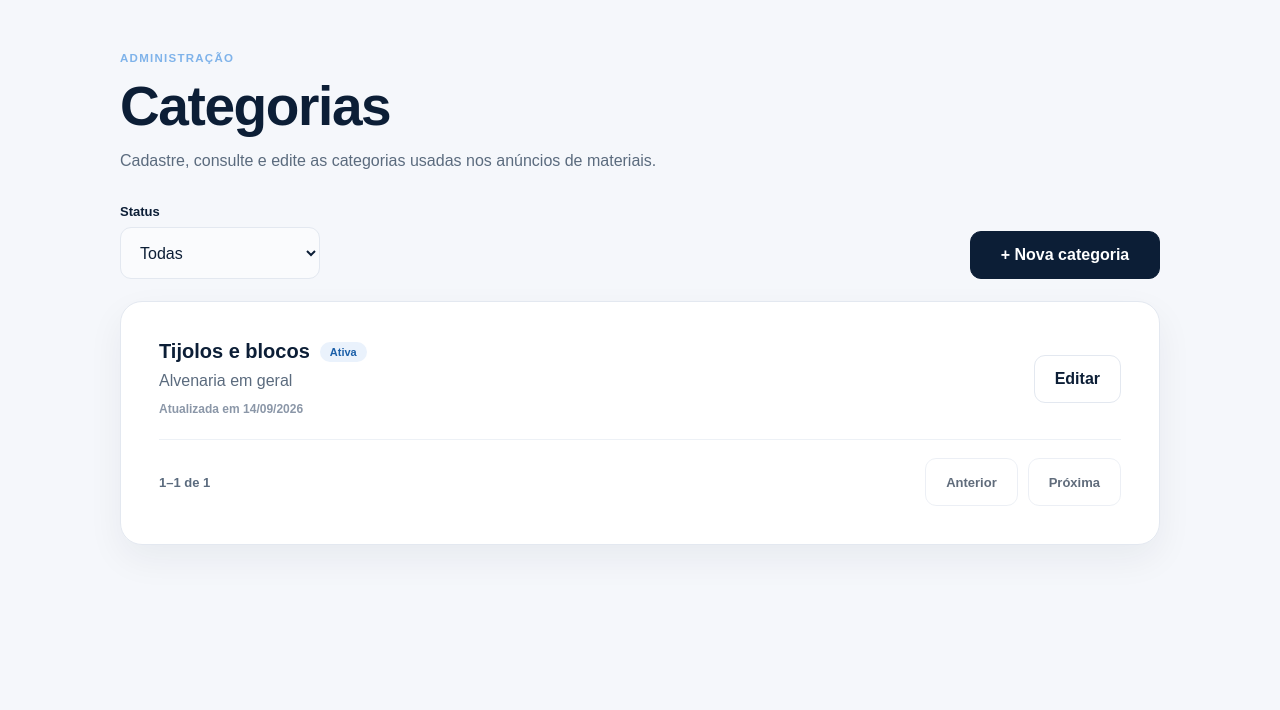
Test: CategoriasPage › não envia a edição quando nada mudou
The width and height of the screenshot is (1280, 710).
Check: the heading "Tijolos e blocos" is shown, box [159,340,310,363]
Click the button with aria-label "Editar Tijolos e blocos": point(1077, 379) [1034,355,1121,403]
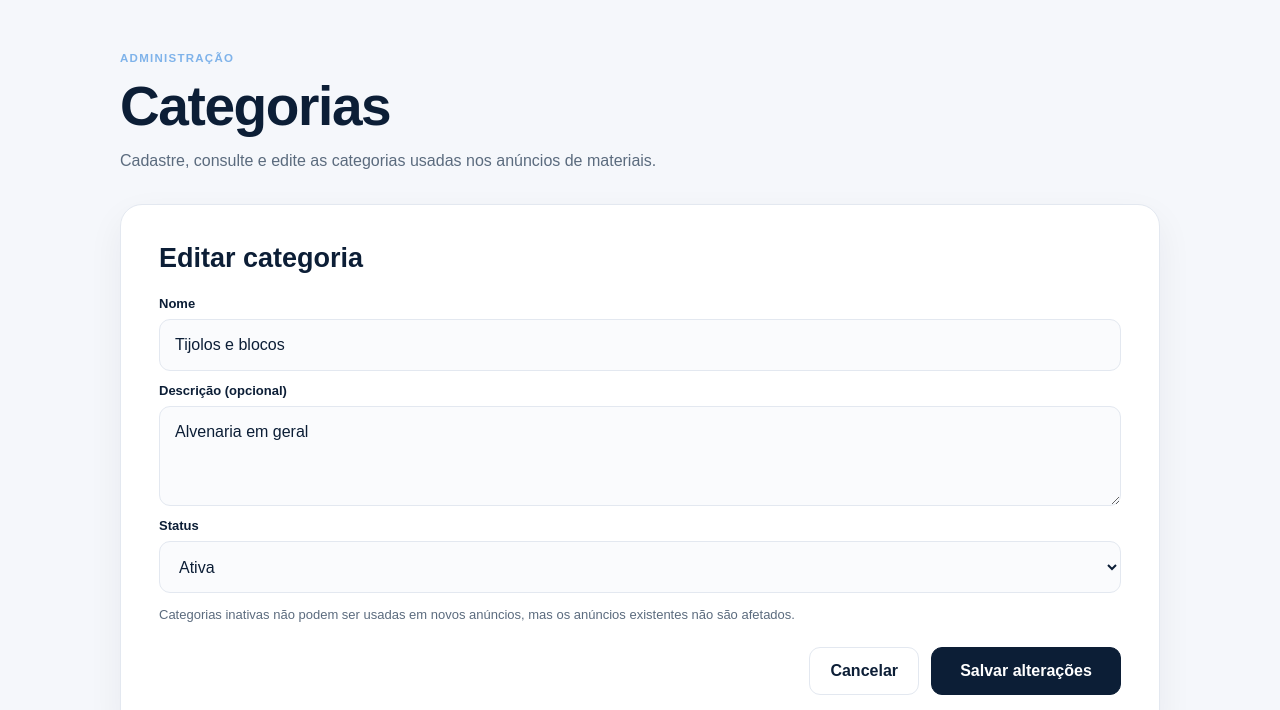
Click the button "Salvar alterações": point(1026, 671) [931,647,1121,695]
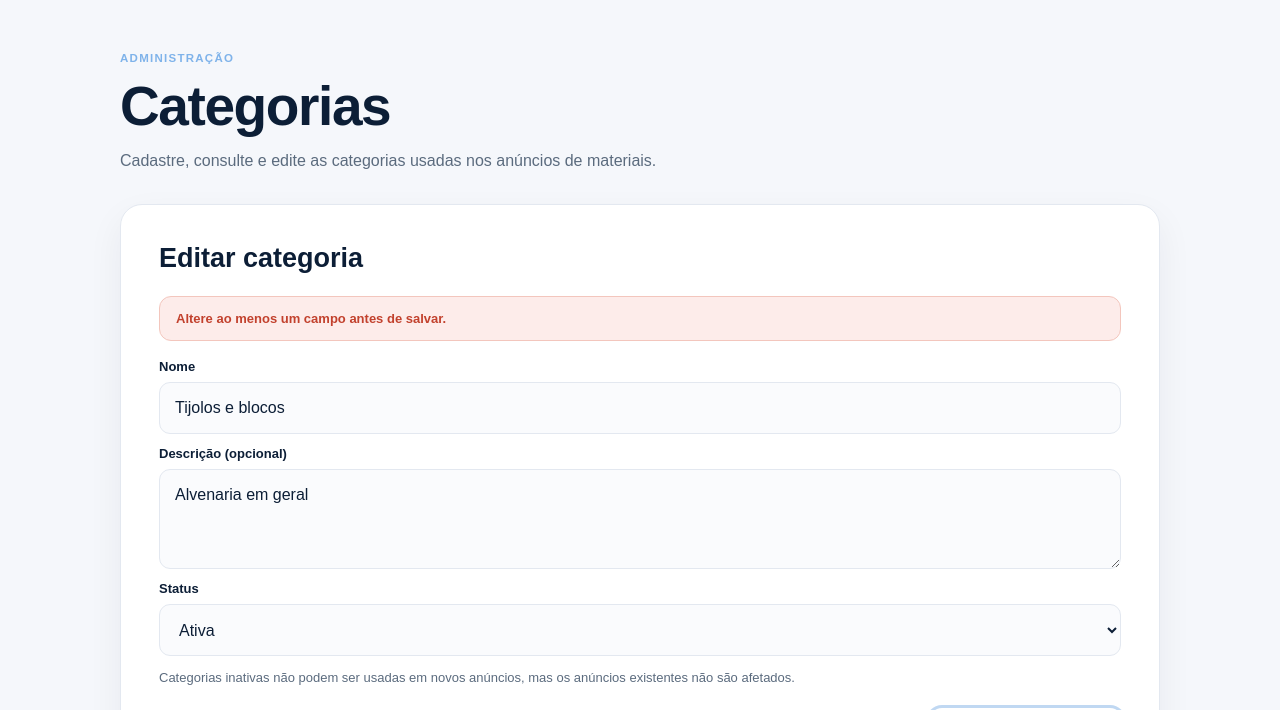
Check: the message shows "Altere ao menos um campo", box [176,311,446,326]
